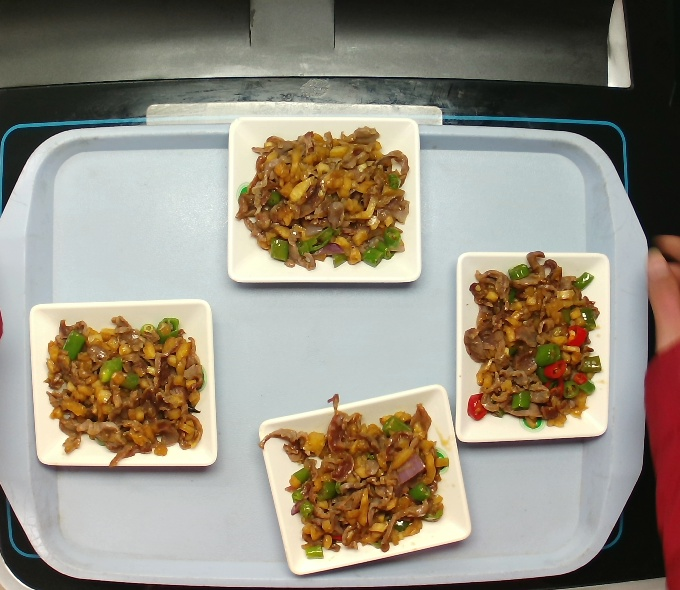wcq-ZhaCaiChaoJiZhen: (454, 241, 614, 438), (230, 114, 415, 281), (35, 303, 215, 468), (277, 402, 443, 556)
